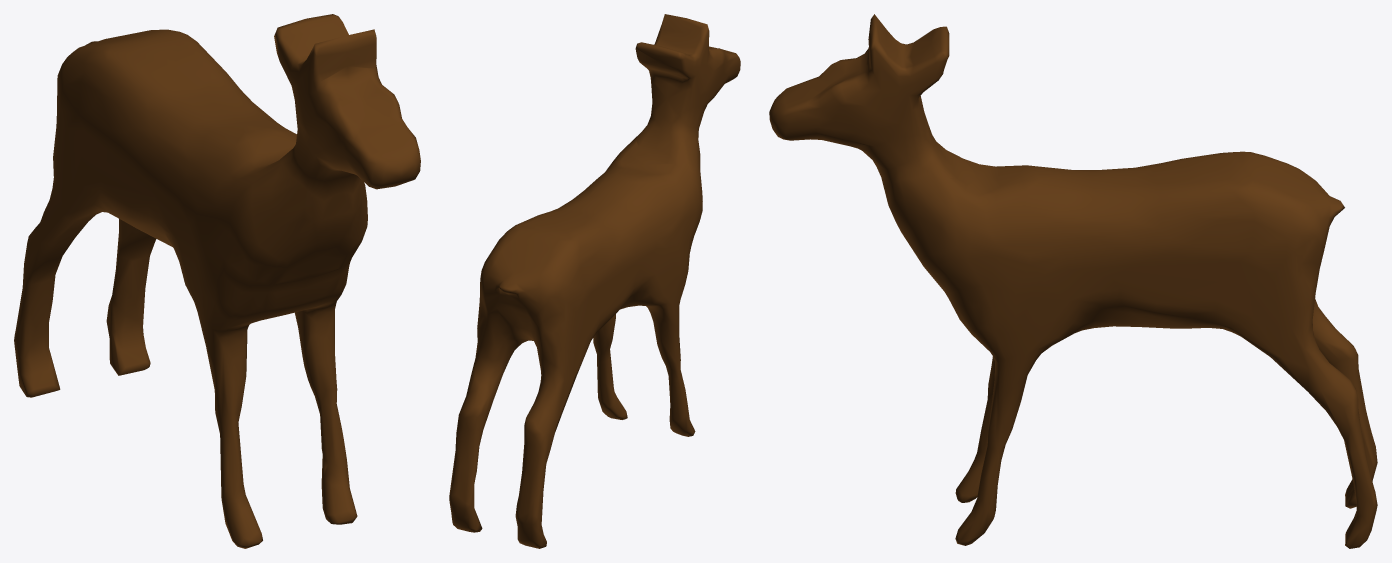
Rendered from deer_temp.obj.
The picture shows the model from 3 angles, left to right: view 1: azimuth 30°, elevation 25°; view 2: azimuth 150°, elevation 25°; view 3: azimuth 270°, elevation 25°; orthographic projection. The views are drawn at different scales.
Parts seen in each view (by area): view 1: Group8006; view 2: Group8006; view 3: Group8006.
Part boxes in pixels (x1,y1,x2,y2): Group8006: (14, 14, 420, 548); Group8006: (449, 14, 740, 548); Group8006: (769, 14, 1377, 548).
Bounding box in the file's own units: 8.11 × 31.72 × 35.21.
1 material, 1 textured.
